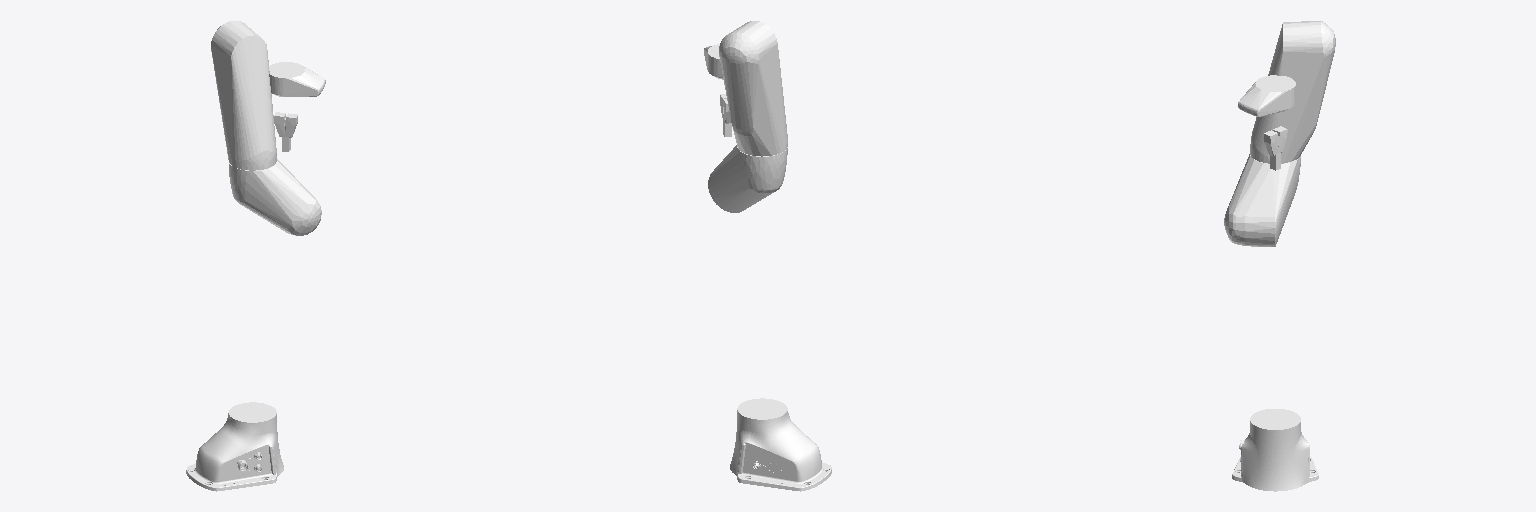
URDF robot description (panda):
<?xml version="1.0" ?>
<!-- =================================================================================== -->
<!-- |    This document was autogenerated by xacro from panda_arm_hand.urdf.xacro      | -->
<!-- |    EDITING THIS FILE BY HAND IS NOT RECOMMENDED                                 | -->
<!-- =================================================================================== -->
<robot name="panda" xmlns:xacro="http://www.ros.org/wiki/xacro">
  <link name="world"/>
  <joint name="arm_to_world_fixed" type="fixed">
    <parent link="world"/>
    <child link="panda_link0"/>
    <origin xyz="0 0 0" rpy="0 0 0" />
  </joint>
  <link name="panda_link0">
    <visual>
      <geometry>
        <mesh filename="./meshes/collision/link0.obj"/>
      </geometry>
      <material name="panda_white"/>
    </visual>
    <collision>
      <geometry>
        <mesh filename="./meshes/collision/link0.obj"/>
      </geometry>
      <material name="panda_white"/>
    </collision>
  </link>
  <link name="panda_link1">
    <visual>
      <geometry>
        <mesh filename="./meshes/collision/link1.obj"/>
      </geometry>
      <material name="panda_white"/>
    </visual>
    <collision>
      <geometry>
        <mesh filename="./meshes/collision/link1.obj"/>
      </geometry>
      <material name="panda_white"/>
    </collision>
  </link>
  <joint name="panda_joint1" type="revolute">
    <safety_controller k_position="100.0" k_velocity="40.0" soft_lower_limit="-2.8973" soft_upper_limit="2.8973"/>
    <origin rpy="0 0 0" xyz="0 0 0.333"/>
    <parent link="panda_link0"/>
    <child link="panda_link1"/>
    <axis xyz="0 0 1"/>
    <limit effort="87" lower="-2.9671" upper="2.9671" velocity="2.1750"/>
  </joint>
  <link name="panda_link2">
    <visual>
      <geometry>
        <mesh filename="./meshes/collision/link2.obj"/>
      </geometry>
      <material name="panda_white"/>
    </visual>
    <collision>
      <geometry>
        <mesh filename="./meshes/collision/link2.obj"/>
      </geometry>
      <material name="panda_white"/>
    </collision>
  </link>
  <joint name="panda_joint2" type="revolute">
    <safety_controller k_position="100.0" k_velocity="40.0" soft_lower_limit="-1.7628" soft_upper_limit="1.7628"/>
    <origin rpy="-1.57079632679 0 0" xyz="0 0 0"/>
    <parent link="panda_link1"/>
    <child link="panda_link2"/>
    <axis xyz="0 0 1"/>
    <limit effort="87" lower="-1.8326" upper="1.8326" velocity="2.1750"/>
  </joint>
  <link name="panda_link3">
    <visual>
      <geometry>
        <mesh filename="./meshes/collision/link3.obj"/>
      </geometry>
      <material name="panda_white"/>
    </visual>
    <collision>
      <geometry>
        <mesh filename="./meshes/collision/link3.obj"/>
      </geometry>
      <material name="panda_white"/>
    </collision>
  </link>
  <joint name="panda_joint3" type="revolute">
    <safety_controller k_position="100.0" k_velocity="40.0" soft_lower_limit="-2.8973" soft_upper_limit="2.8973"/>
    <origin rpy="1.57079632679 0 0" xyz="0 -0.316 0"/>
    <parent link="panda_link2"/>
    <child link="panda_link3"/>
    <axis xyz="0 0 1"/>
    <limit effort="87" lower="-2.9671" upper="2.9671" velocity="2.1750"/>
  </joint>
  <link name="panda_link4">
    <visual>
      <geometry>
        <mesh filename="./meshes/collision/link4.obj"/>
      </geometry>
      <material name="panda_white"/>
    </visual>
    <collision>
      <geometry>
        <mesh filename="./meshes/collision/link4.obj"/>
      </geometry>
      <material name="panda_white"/>
    </collision>
  </link>
  <joint name="panda_joint4" type="revolute">
    <safety_controller k_position="100.0" k_velocity="40.0" soft_lower_limit="-3.0718" soft_upper_limit="-0.0698"/>
    <origin rpy="1.57079632679 0 0" xyz="0.0825 0 0"/>
    <parent link="panda_link3"/>
    <child link="panda_link4"/>
    <axis xyz="0 0 1"/>
    <limit effort="87" lower="-3.1416" upper="0.0" velocity="2.1750"/>
  </joint>
  <link name="panda_link5">
    <visual>
      <geometry>
        <mesh filename="./meshes/collision/link5.obj"/>
      </geometry>
      <material name="panda_white"/>
    </visual>
    <collision>
      <geometry>
        <mesh filename="./meshes/collision/link5.obj"/>
      </geometry>
      <material name="panda_white"/>
    </collision>
  </link>
  <joint name="panda_joint5" type="revolute">
    <safety_controller k_position="100.0" k_velocity="40.0" soft_lower_limit="-2.8973" soft_upper_limit="2.8973"/>
    <origin rpy="-1.57079632679 0 0" xyz="-0.0825 0.384 0"/>
    <parent link="panda_link4"/>
    <child link="panda_link5"/>
    <axis xyz="0 0 1"/>
    <limit effort="12" lower="-2.9671" upper="2.9671" velocity="2.6100"/>
  </joint>
  <link name="panda_link6">
    <visual>
      <geometry>
        <mesh filename="./meshes/collision/link6.obj"/>
      </geometry>
      <material name="panda_white"/>
    </visual>
    <collision>
      <geometry>
        <mesh filename="./meshes/collision/link6.obj"/>
      </geometry>
      <material name="panda_white"/>
    </collision>
  </link>
  <joint name="panda_joint6" type="revolute">
    <safety_controller k_position="100.0" k_velocity="40.0" soft_lower_limit="-0.0175" soft_upper_limit="3.7525"/>
    <origin rpy="1.57079632679 0 0" xyz="0 0 0"/>
    <parent link="panda_link5"/>
    <child link="panda_link6"/>
    <axis xyz="0 0 1"/>
    <limit effort="12" lower="-0.0873" upper="3.8223" velocity="2.6100"/>
  </joint>
  <link name="panda_link7">
    <visual>
      <geometry>
        <mesh filename="./meshes/collision/link7.obj"/>
      </geometry>
      <material name="panda_white"/>
    </visual>
    <collision>
      <geometry>
        <mesh filename="./meshes/collision/link7.obj"/>
      </geometry>
      <material name="panda_white"/>
    </collision>
  </link>
  <joint name="panda_joint7" type="revolute">
    <safety_controller k_position="100.0" k_velocity="40.0" soft_lower_limit="-2.8973" soft_upper_limit="2.8973"/>
    <origin rpy="1.57079632679 0 0" xyz="0.088 0 0"/>
    <parent link="panda_link6"/>
    <child link="panda_link7"/>
    <axis xyz="0 0 1"/>
    <limit effort="12" lower="-2.9671" upper="2.9671" velocity="2.6100"/>
  </joint>
  <link name="panda_link8"/>
  <joint name="panda_joint8" type="fixed">
    <origin rpy="0 0 0" xyz="0 0 0.107"/>
    <parent link="panda_link7"/>
    <child link="panda_link8"/>
    <axis xyz="0 0 0"/>
  </joint>
  <joint name="panda_hand_joint" type="fixed">
    <parent link="panda_link8"/>
    <child link="panda_hand"/>
    <origin rpy="0 0 -0.785398163397" xyz="0 0 0"/>
  </joint>
  <link name="panda_hand">
    <visual>
      <geometry>
        <mesh filename="./meshes/collision/hand.obj"/>
      </geometry>
      <material name="panda_white"/>
    </visual>
    <collision>
      <geometry>
        <mesh filename="./meshes/collision/hand.obj"/>
      </geometry>
      <material name="panda_white"/>
    </collision>
  </link>
  <link name="panda_leftfinger">
    <visual>
      <geometry>
        <mesh filename="./meshes/collision/finger.obj"/>
      </geometry>
      <material name="panda_white"/>
    </visual>
    <collision>
      <geometry>
        <mesh filename="./meshes/collision/finger.obj"/>
      </geometry>
      <material name="panda_white"/>
    </collision>
  </link>
  <link name="panda_rightfinger">
    <visual>
      <origin rpy="0 0 3.14159265359" xyz="0 0 0"/>
      <geometry>
        <mesh filename="./meshes/collision/finger.obj"/>
      </geometry>
      <material name="panda_white"/>
    </visual>
    <collision>
      <origin rpy="0 0 3.14159265359" xyz="0 0 0"/>
      <geometry>
        <mesh filename="./meshes/collision/finger.obj"/>
      </geometry>
      <material name="panda_white"/>
    </collision>
  </link>
  <joint name="panda_finger_joint1" type="prismatic">
    <parent link="panda_hand"/>
    <child link="panda_leftfinger"/>
    <origin rpy="0 0 0" xyz="0 0 0.0584"/>
    <axis xyz="0 1 0"/>
    <limit effort="20" lower="0.0" upper="0.04" velocity="0.2"/>
  </joint>
  <joint name="panda_finger_joint2" type="prismatic">
    <parent link="panda_hand"/>
    <child link="panda_rightfinger"/>
    <origin rpy="0 0 0" xyz="0 0 0.0584"/>
    <axis xyz="0 -1 0"/>
    <limit effort="20" lower="0.0" upper="0.04" velocity="0.2"/>
    <mimic joint="panda_finger_joint1"/>
  </joint>
  <link name="cube">
    <visual>
      <geometry>
        <mesh filename="./meshes/collision/cube.obj"/>
      </geometry>
      <material name="panda_white"/>
    </visual>
    <collision>
      <geometry>
        <mesh filename="./meshes/collision/cube.obj"/>
      </geometry>
      <material name="panda_white"/>
    </collision>
  </link>
  <joint name="panda_cube" type="fixed">
    <origin rpy="0 0 0" xyz="0 0 0.107"/>
    <parent link="panda_hand"/>
    <child link="cube"/>
    <axis xyz="0 0 0"/>
  </joint>
  <material name="panda_white">
    <color rgba="1. 1. 1. 1."/>
  </material>
</robot>

--- Facts derived from the render (not from the file) ---
The picture shows the robot from 3 angles, left to right: view 1: azimuth 30°, elevation 25°; view 2: azimuth 150°, elevation 25°; view 3: azimuth 270°, elevation 25°; orthographic projection.
Model panda with 14 links and 13 joints (7 revolute, 2 prismatic, 4 fixed), rooted at world, posed every joint at zero.
Visible links, largest first — view 1: panda_link5, panda_link0, panda_link4, panda_link7; view 2: panda_link5, panda_link0, panda_link4; view 3: panda_link5, panda_link0, panda_link4, panda_link7.
Link boxes in pixels (bbox=[...]): panda_link5: bbox=[211, 20, 276, 170]; panda_link0: bbox=[186, 402, 283, 491]; panda_link4: bbox=[229, 159, 321, 235]; panda_link7: bbox=[269, 62, 325, 96]; panda_link5: bbox=[719, 21, 787, 156]; panda_link0: bbox=[730, 398, 831, 491]; panda_link4: bbox=[708, 145, 787, 212]; panda_link5: bbox=[1250, 21, 1335, 163]; panda_link0: bbox=[1232, 409, 1318, 491]; panda_link4: bbox=[1224, 154, 1300, 246]; panda_link7: bbox=[1238, 75, 1295, 116].
Size in the robot's own frame: 0.3234 by 0.241 by 1.09 metres.
7 mesh visuals loaded from 11 distinct referenced files (6 OBJ); not drawn: 5 (reference not matched to a file when rendering).
